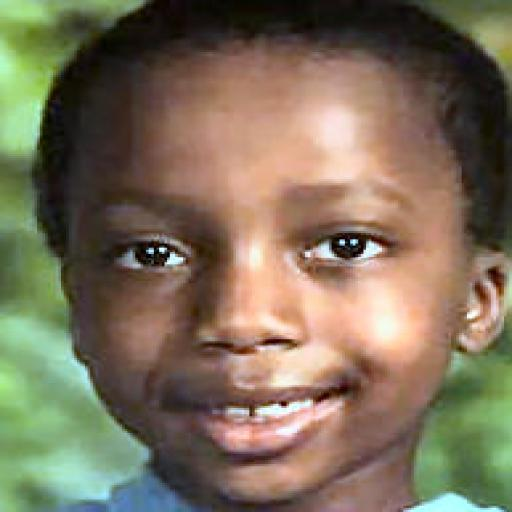Autism: (70, 30, 508, 492)
